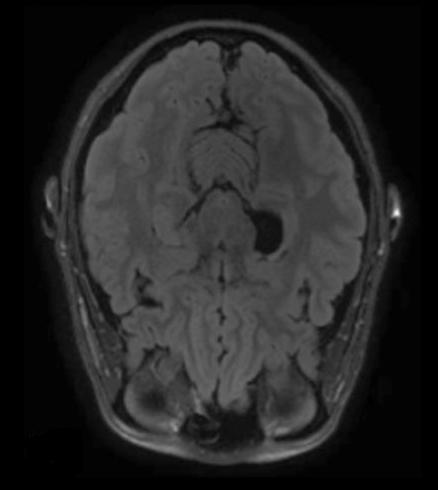Normal_Brain: (9, 1, 438, 490)
